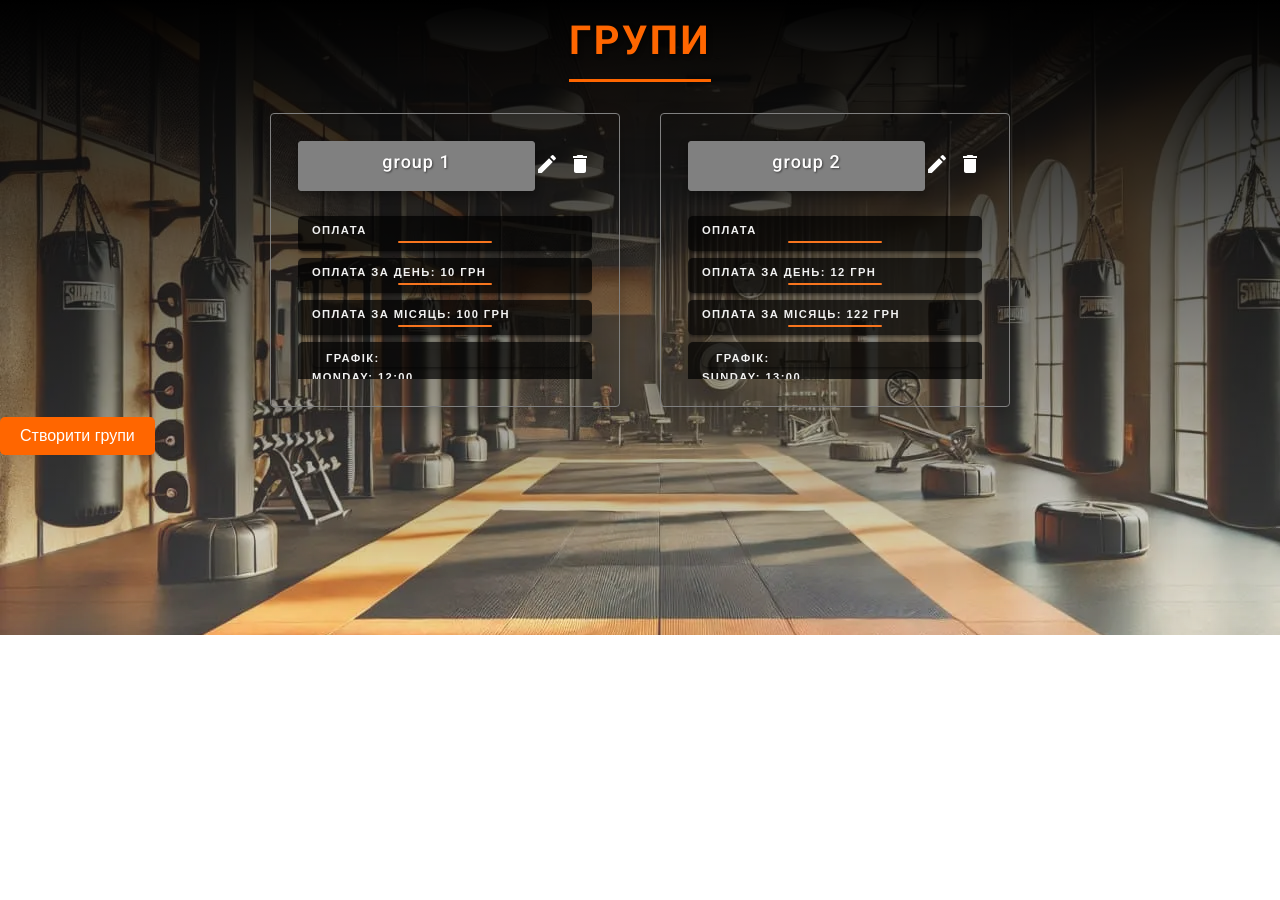
Test: GroupsPage › shows modal for adding a group
The width and height of the screenshot is (1280, 900).
Click the button "Створити групи" at (77, 436), box [0,417,155,455]
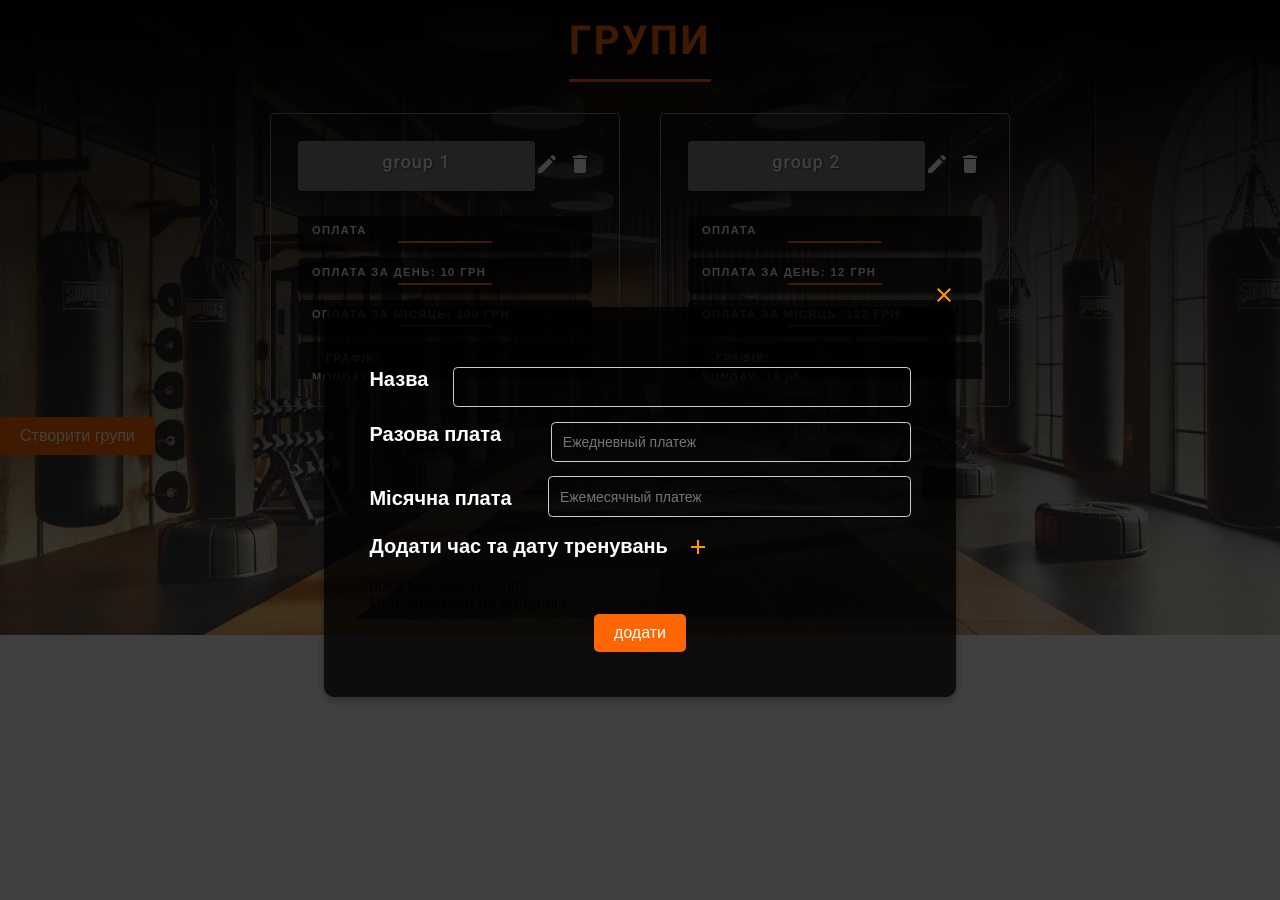
Expected: the button "додати" is shown, [594,614,686,652]
